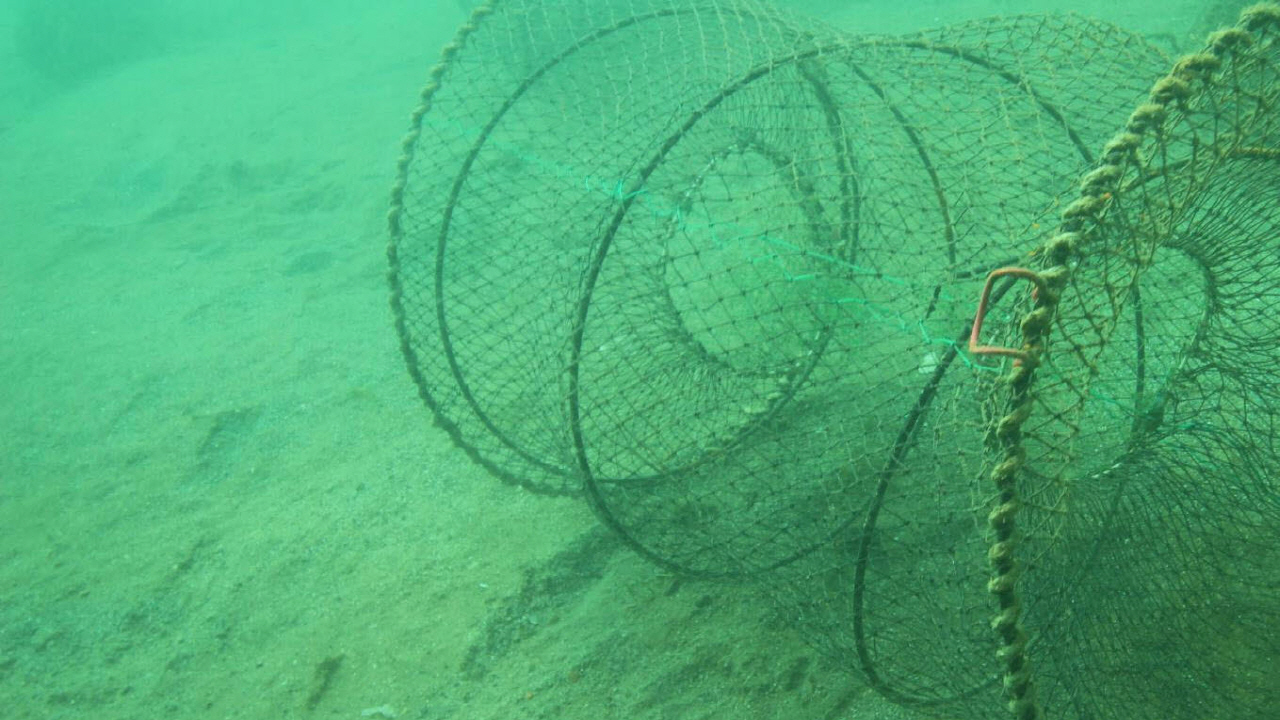spring fish trap: (382, 0, 1280, 720)
